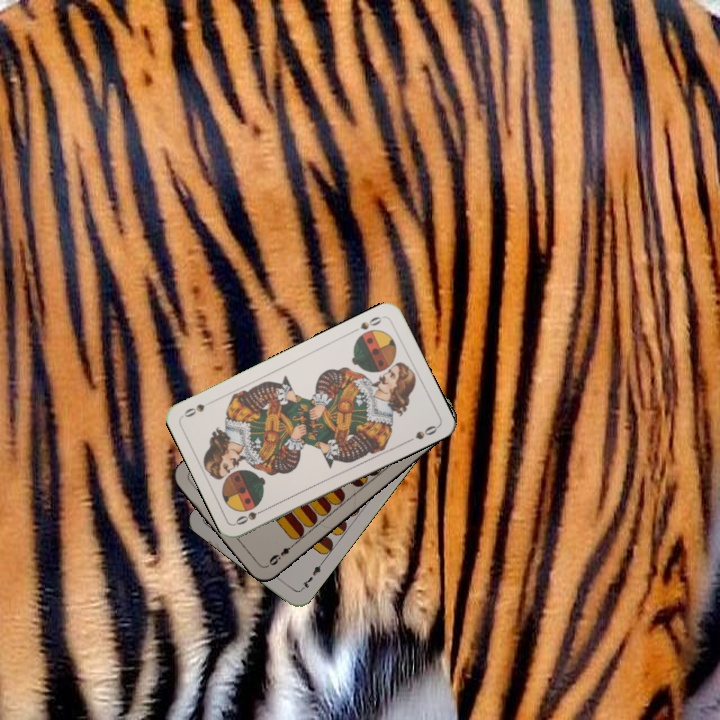E7: (296, 558, 326, 593)
E9: (264, 539, 298, 569)
SO: (231, 504, 270, 528), (348, 312, 387, 335)
